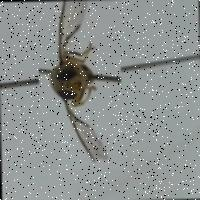Oriental-fruit-fly: (37, 0, 122, 170)
